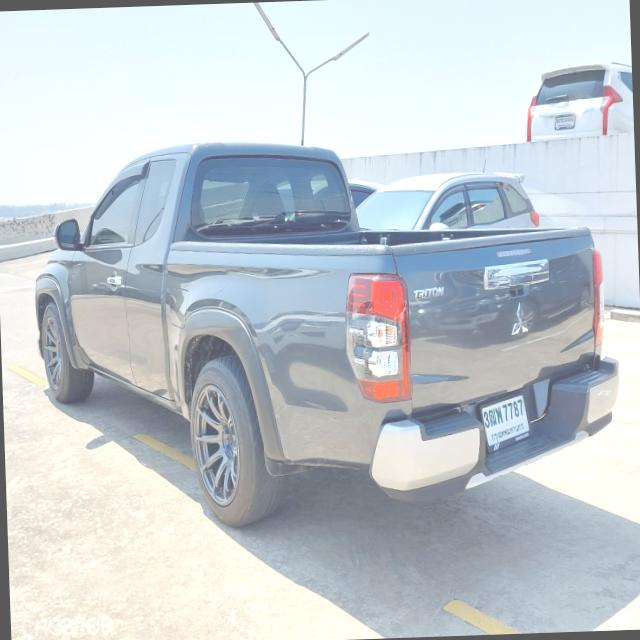license_plate: (477, 390, 532, 451), (553, 112, 576, 130)
